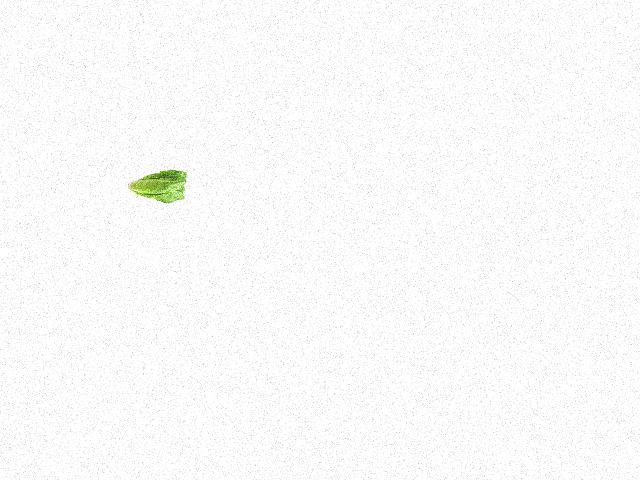lettuce: (125, 164, 190, 208)
